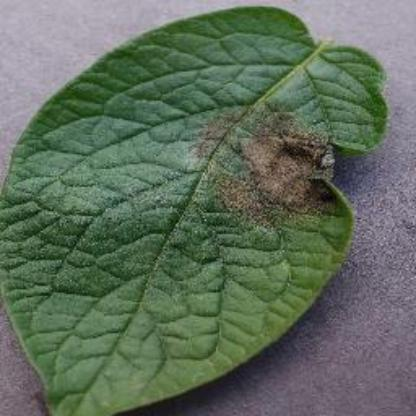Late-Blight: (6, 3, 390, 415)
